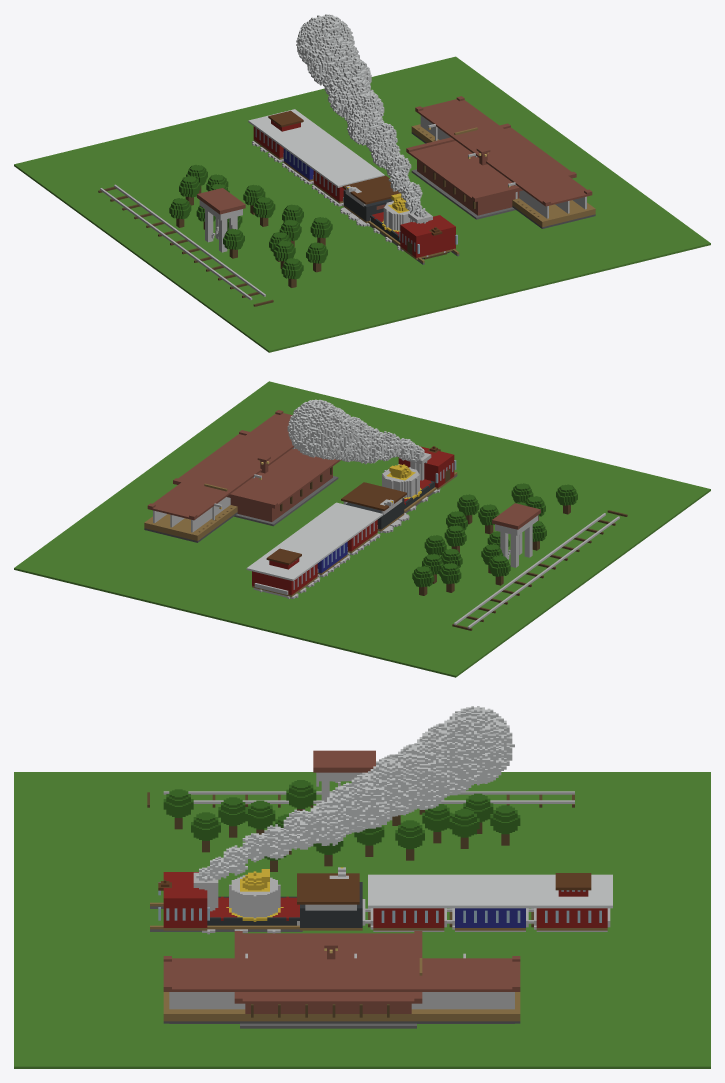
3 renders of one model, top to bottom at view 1: azimuth 30°, elevation 25°; view 2: azimuth 150°, elevation 25°; view 3: azimuth 270°, elevation 25°, orthographic. The views are drawn at different scales.
Size of the model in its own units: 256 by 87 by 256.
